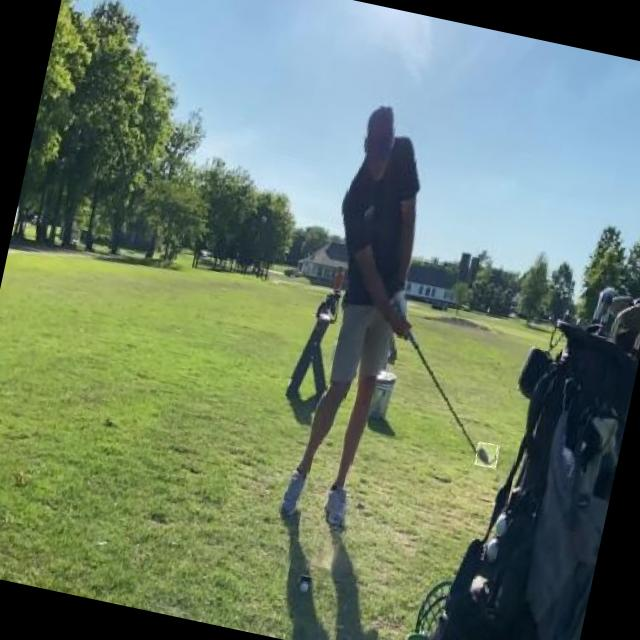club head: (474, 441, 499, 468)
